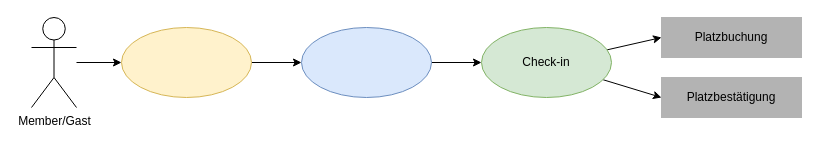
Some shapes in this 819 by 146 pixel diagram are drawn without their labels. The shapes that lost their labels are listed below. From the top down, each one's box as (x1, y1, x2, y2) in pixels, then its label:
(120, 26, 252, 98): Authentifizierung
(300, 26, 432, 98): Begrüßung
